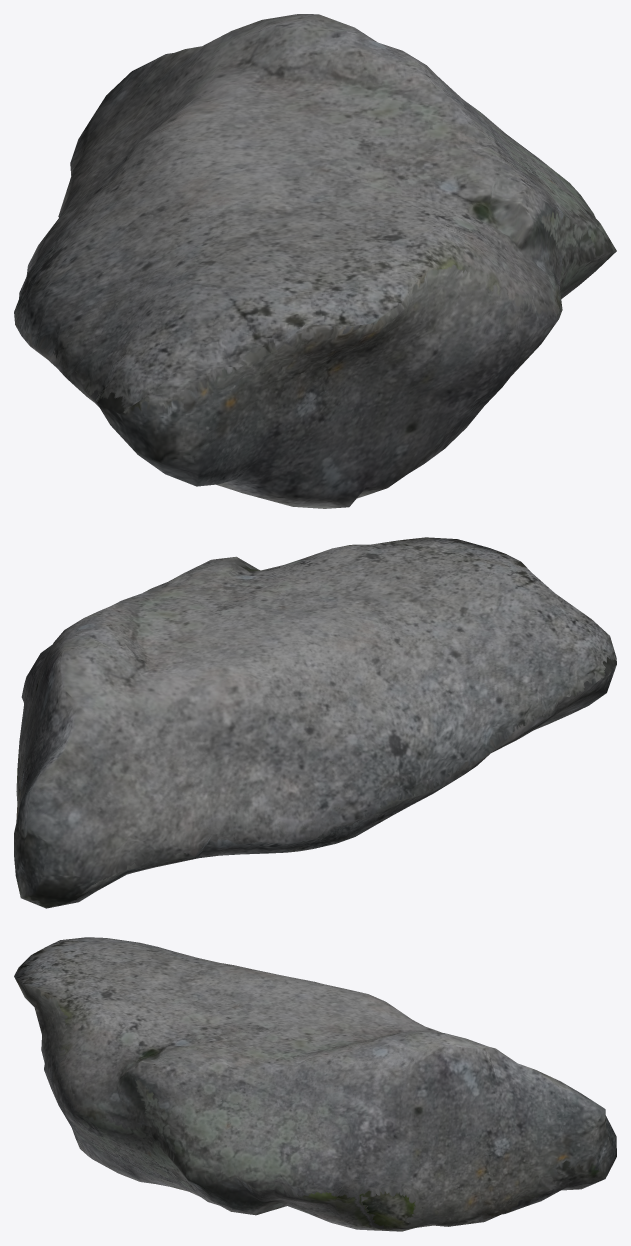
File: [uhq] rock3.fbx
3 views of the same model, one above another, from view 1: azimuth 30°, elevation 25°; view 2: azimuth 150°, elevation 25°; view 3: azimuth 270°, elevation 25° (orthographic). The views are drawn at different scales.
Visible parts, largest first — view 1: rock 3_LOD0; view 2: rock 3_LOD0; view 3: rock 3_LOD0.
Boxes of the visible parts, box(x1,y1,x2,y2) form: rock 3_LOD0: box(14, 14, 616, 508); rock 3_LOD0: box(14, 537, 616, 908); rock 3_LOD0: box(14, 937, 616, 1231).
Size of what is drawn, in the model's own units: 1.42 by 0.5778 by 1.73.
